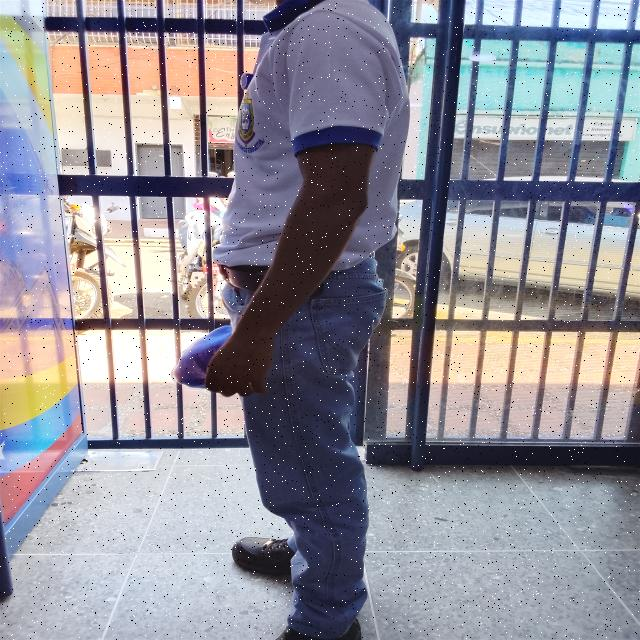uniforme_superior: (211, 0, 411, 272)
